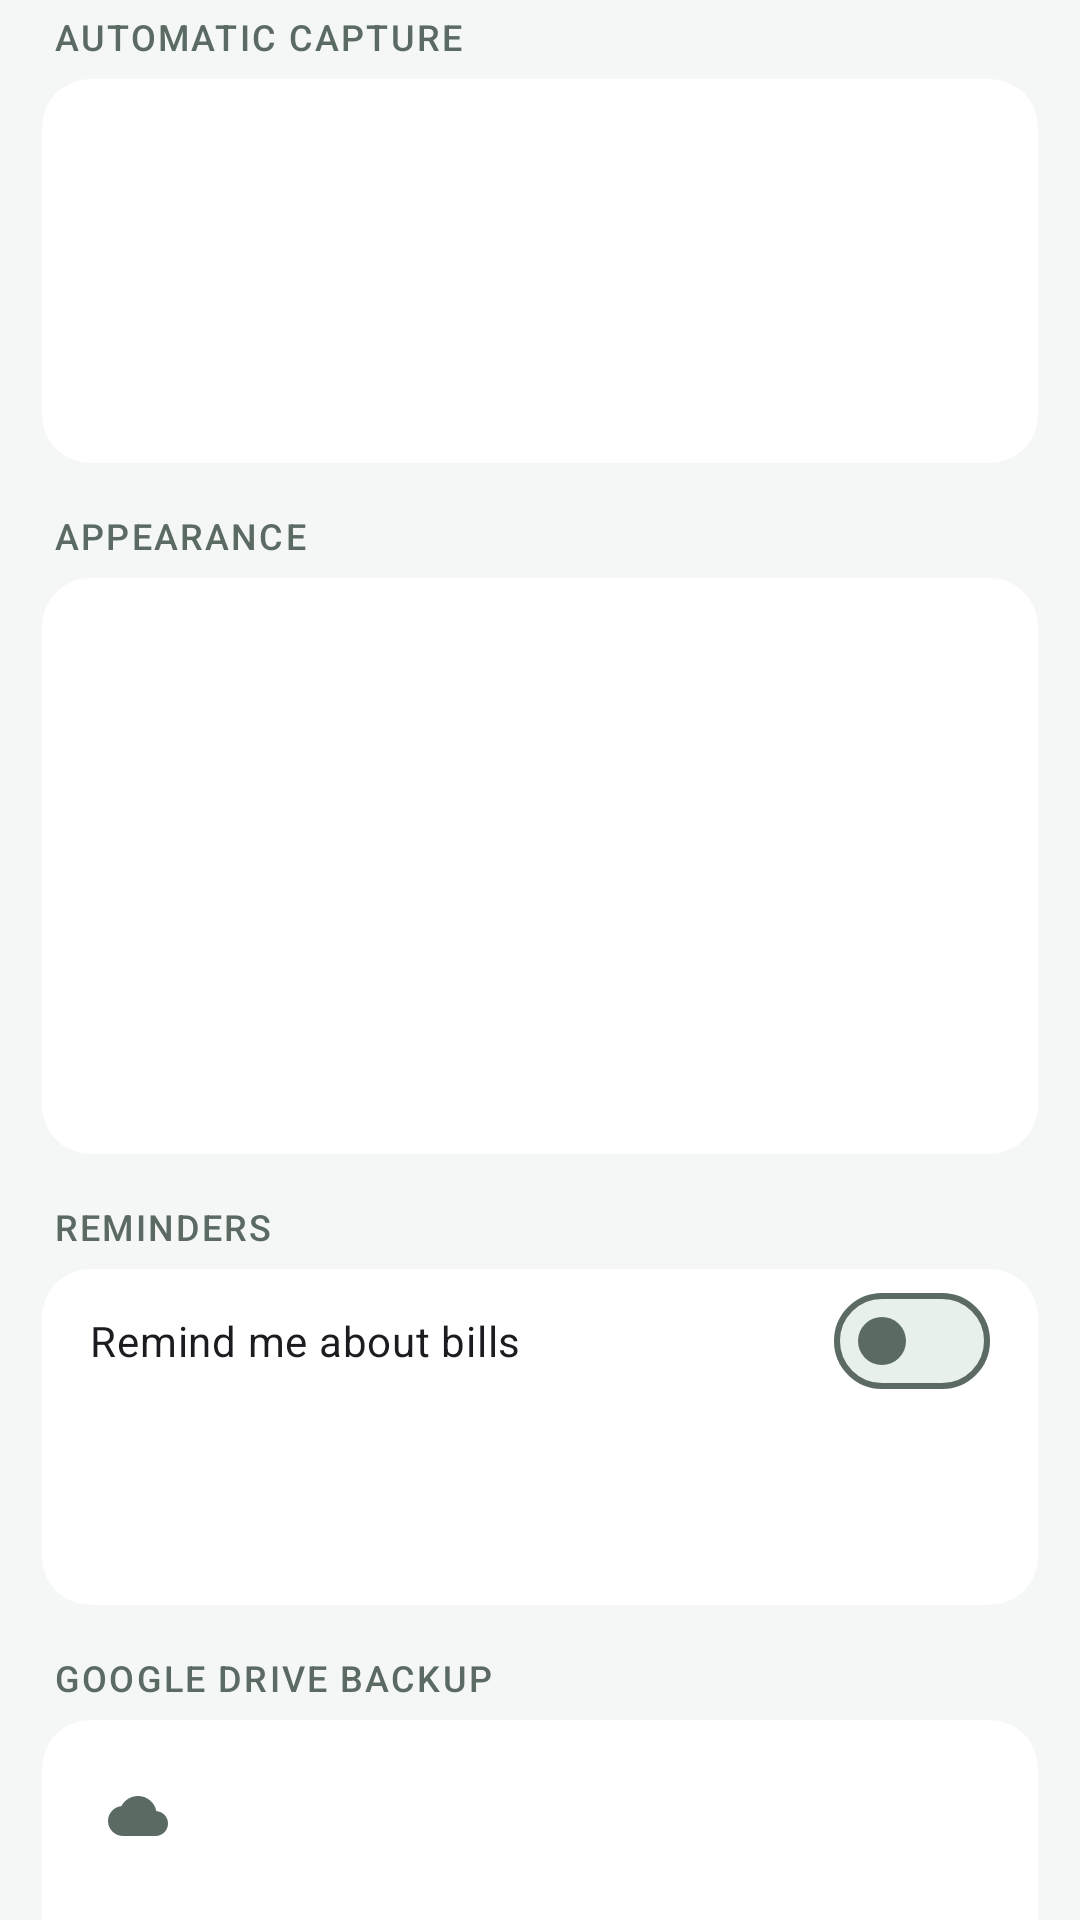

Point at icon controls on the screen. Image size 1080px×1920px, points as (x=x, y=y).
cloud: (x=138, y=1816)
